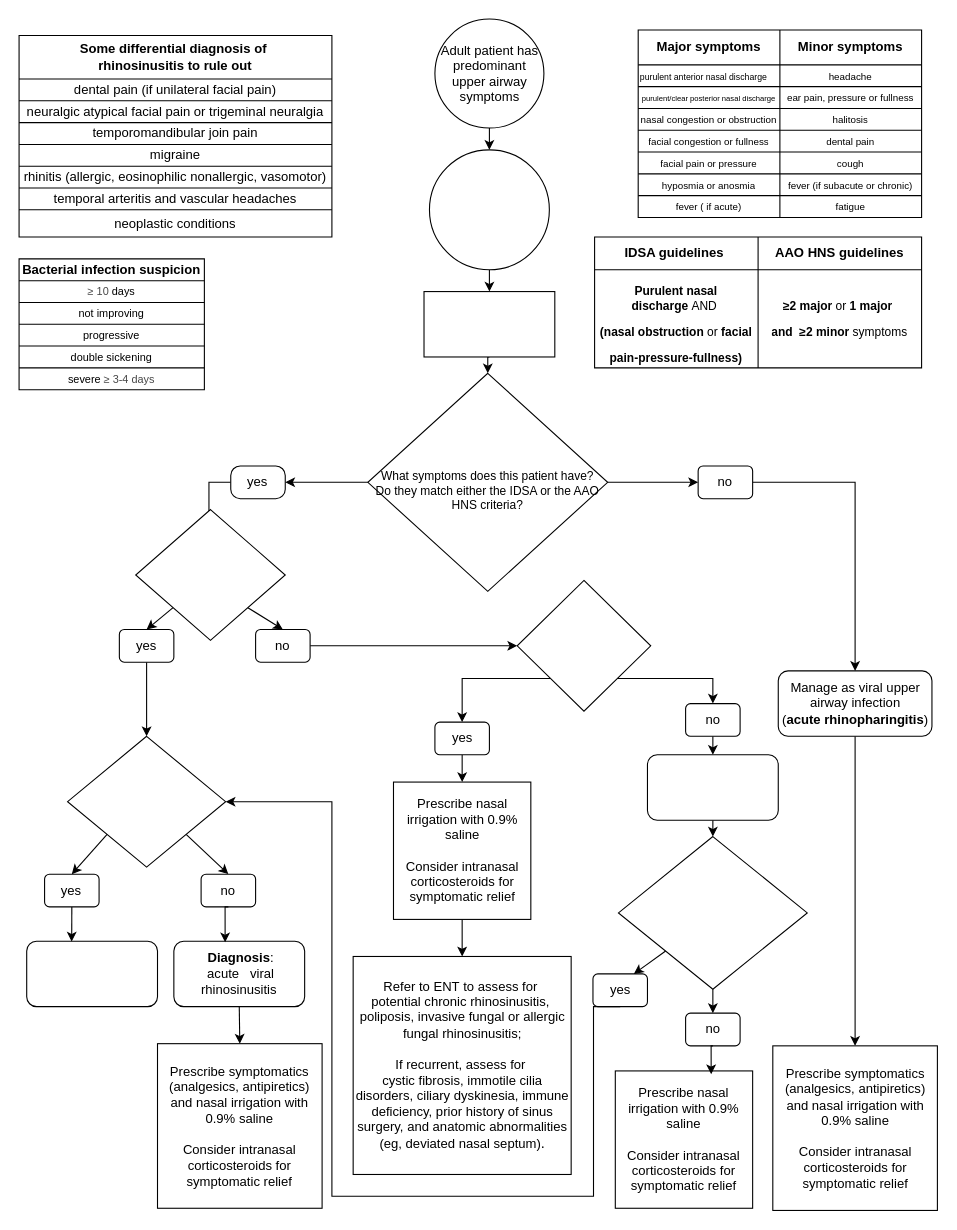
Image size: 957x1230. Some labels were removed from this diagram. Each missing label, with the centre of its shape:
"Based on clinical assessment, there is suspicion for rhinosinusitis" goes at point (488, 209).
"Based on clinical judgement, does the case need acute management?" goes at point (712, 912).
"Diagnosis : acute bacterial rhinosinusitis" goes at point (92, 973).
"Diagnosis : Subacute rhinosinusitis" goes at point (712, 787).
"Does it have any criteria for bacterial infection suspicion?" goes at point (146, 801).
"Duration ≤ 4 weeks?" goes at point (210, 574).
"Duration ≥ 12 weeks?" goes at point (583, 645).
"Rule-out differential diagnoses on history and examination" goes at point (489, 323).
